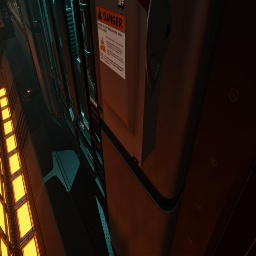EmergencyPhone ,: (1, 6, 9, 18)
SafetySwitchPanel ,: (95, 0, 172, 168), (0, 9, 5, 28)
